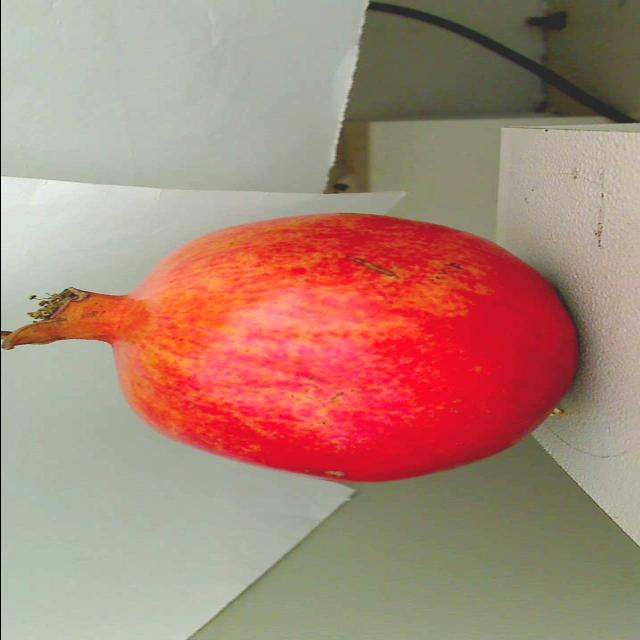pomegranate: (0, 208, 588, 495)
